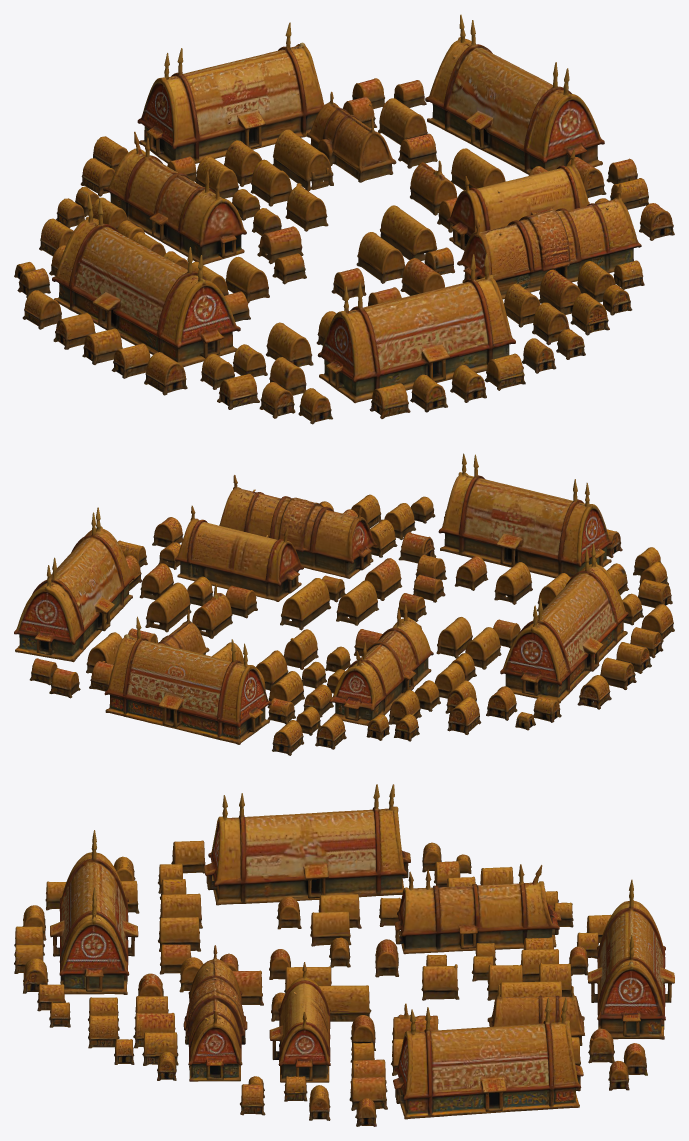
Rendered from Medieval City (North American Native).fbx.
3 renders of one model, top to bottom at view 1: azimuth 30°, elevation 25°; view 2: azimuth 150°, elevation 25°; view 3: azimuth 270°, elevation 25°, orthographic. The views are drawn at different scales.
Visible parts, largest first — view 1: tripo_node_0744b45b; view 2: tripo_node_0744b45b; view 3: tripo_node_0744b45b.
Boxes of the visible parts, bbox=[...] form: tripo_node_0744b45b: bbox=[14, 14, 674, 424]; tripo_node_0744b45b: bbox=[14, 453, 674, 755]; tripo_node_0744b45b: bbox=[14, 784, 674, 1126].
Bounding box in the file's own units: 0.9904 × 0.1684 × 1.
